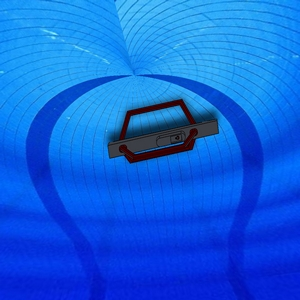submarine: (95, 93, 226, 168)
